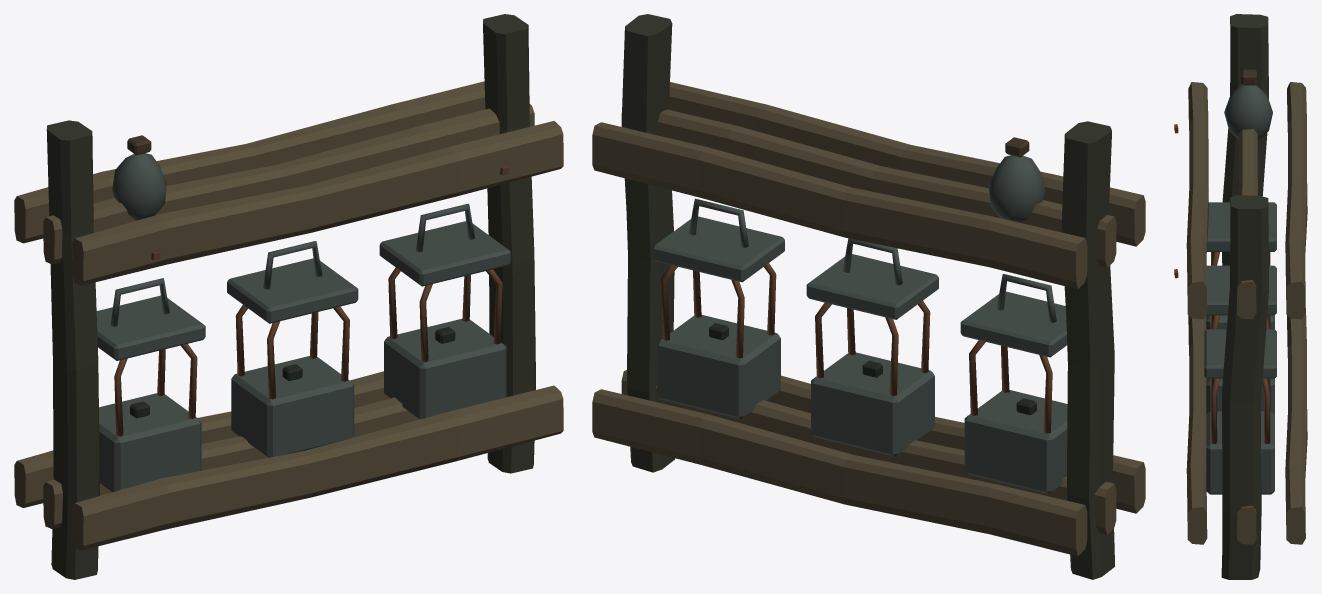
File: lamp-store-used.glb
3 views of the same model, side by side, from view 1: azimuth 30°, elevation 25°; view 2: azimuth 150°, elevation 25°; view 3: azimuth 270°, elevation 25° (orthographic). The views are drawn at different scales.
Parts seen in each view (by area): view 1: Surface; view 2: Surface; view 3: Surface.
Boxes of the visible parts, x1,y1,x2,y2 form: Surface: (14, 14, 563, 579); Surface: (592, 14, 1145, 579); Surface: (1174, 14, 1307, 579).
Bounding box in the file's own units: 1.1 × 0.9569 × 0.3107.
